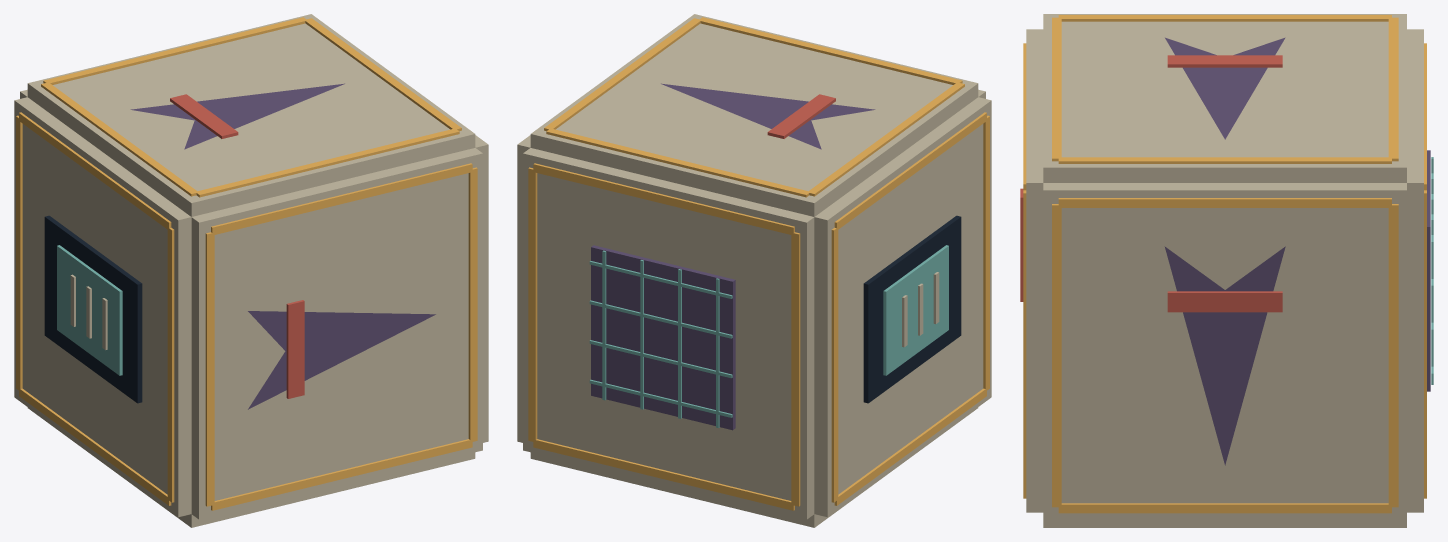
Rendered from space_die_event.glb.
3 renders of one model, left to right at view 1: azimuth 30°, elevation 25°; view 2: azimuth 150°, elevation 25°; view 3: azimuth 270°, elevation 25°, orthographic. The views are drawn at different scales.
Parts seen in each view (by area): view 1: FixedDetails, BrassTrim; view 2: FixedDetails, BrassTrim; view 3: FixedDetails, BrassTrim.
Part boxes in pixels (x1,y1,x2,y2): FixedDetails: (14, 14, 488, 527); BrassTrim: (16, 17, 477, 510); FixedDetails: (517, 14, 991, 527); BrassTrim: (528, 17, 989, 510); FixedDetails: (1020, 14, 1433, 527); BrassTrim: (1023, 15, 1426, 513).
Bounding box in the file's own units: 0.6875 × 0.694 × 0.682.
